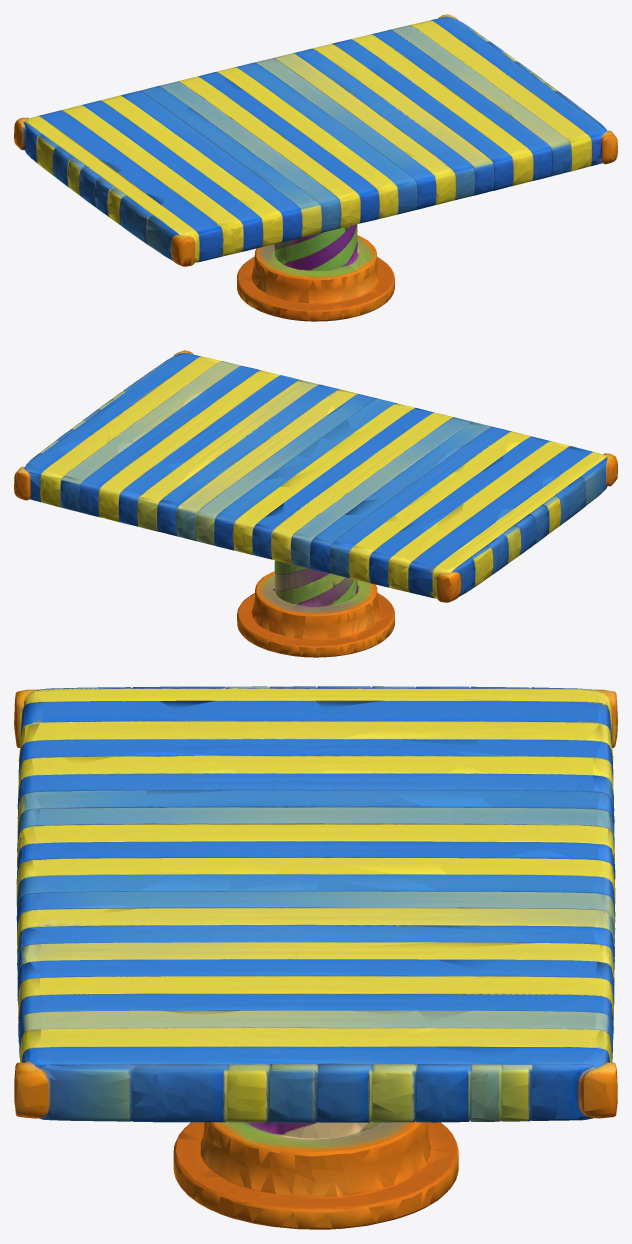
The model's file is platform_sirk.glb.
The picture shows the model from 3 angles, top to bottom: view 1: azimuth 30°, elevation 25°; view 2: azimuth 150°, elevation 25°; view 3: azimuth 270°, elevation 25°; orthographic projection. The views are drawn at different scales.
Parts seen in each view (by area): view 1: tripo_node_b7d4331a-5ce3-4ba4-b41e-08f9b065b6d9; view 2: tripo_node_b7d4331a-5ce3-4ba4-b41e-08f9b065b6d9; view 3: tripo_node_b7d4331a-5ce3-4ba4-b41e-08f9b065b6d9.
Boxes of the visible parts, x1=… form: tripo_node_b7d4331a-5ce3-4ba4-b41e-08f9b065b6d9: x1=14, y1=14, x2=617, y2=321; tripo_node_b7d4331a-5ce3-4ba4-b41e-08f9b065b6d9: x1=14, y1=350, x2=617, y2=657; tripo_node_b7d4331a-5ce3-4ba4-b41e-08f9b065b6d9: x1=14, y1=686, x2=617, y2=1229.
Size of the model in its own units: 0.9801 by 0.3491 by 0.6435.
Materials: 1 (1 with a texture image).
